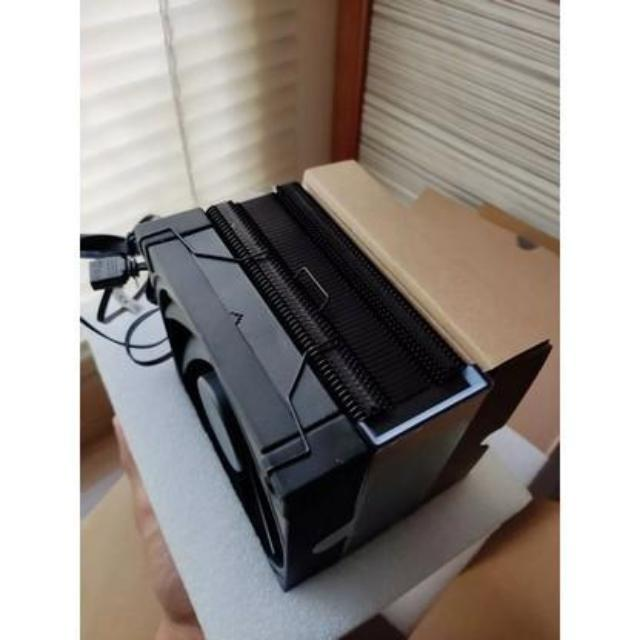CPU_Fan: (124, 154, 564, 606)
